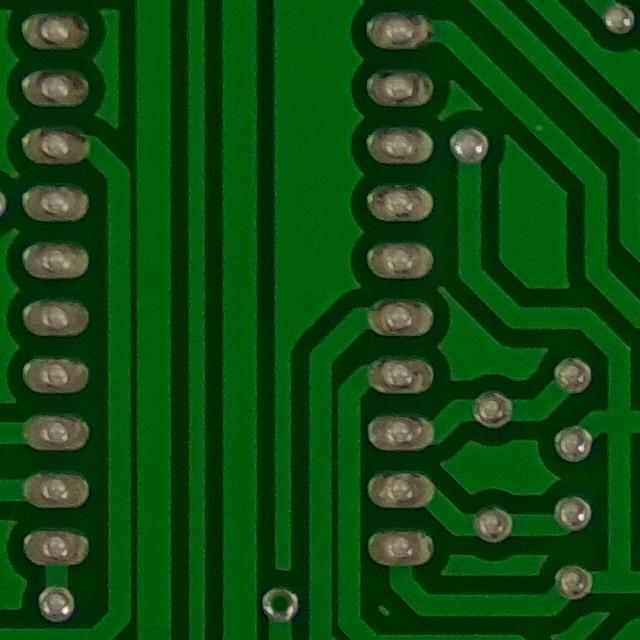missing_hole: (257, 580, 307, 635)
